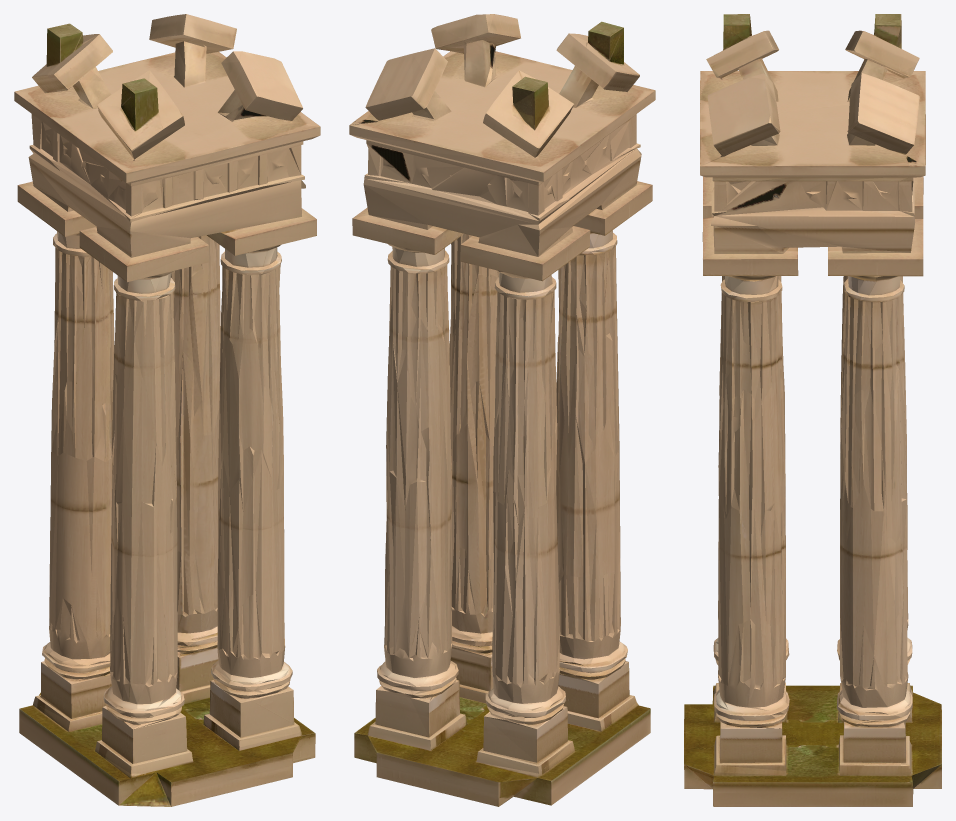
The model's file is cover_full_temple.C.raw.glb.
3 renders of one model, left to right at view 1: azimuth 30°, elevation 25°; view 2: azimuth 150°, elevation 25°; view 3: azimuth 270°, elevation 25°, orthographic.
Bounding box in the file's own units: 0.5563 × 1.9 × 0.6268.
Materials: 1 (1 with a texture image).
